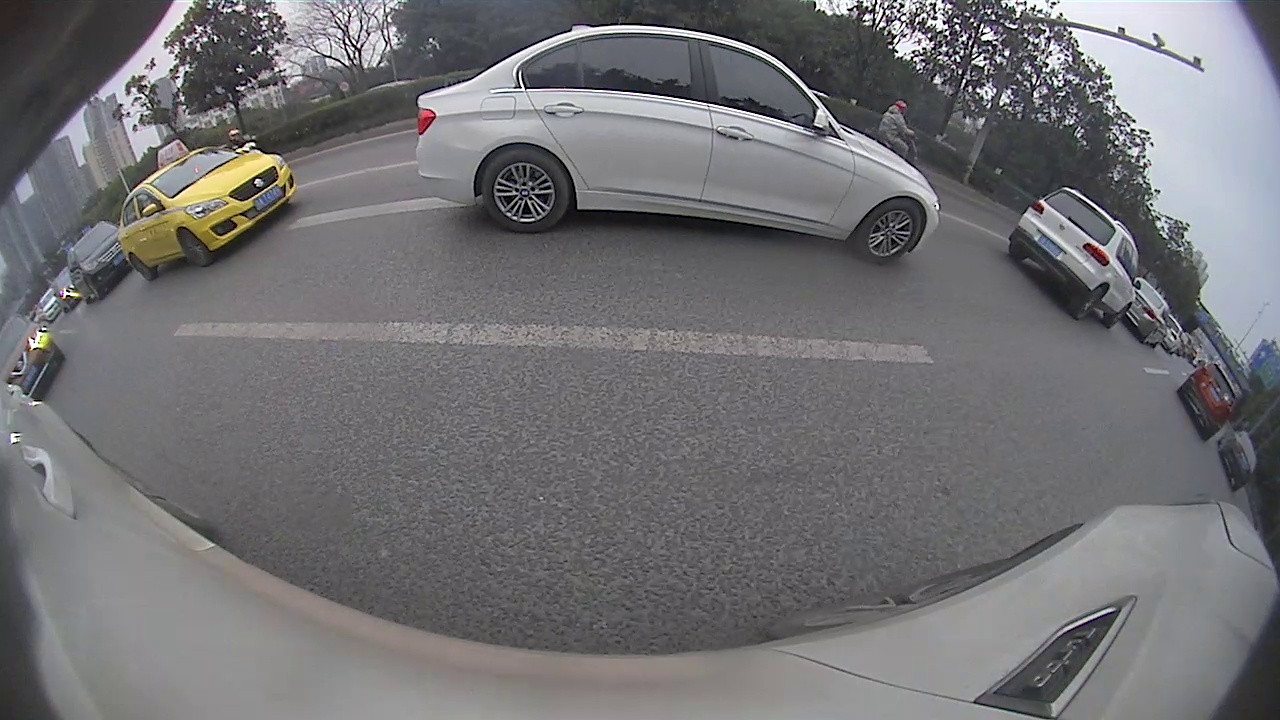car: (415, 26, 939, 264), (118, 139, 295, 279), (1008, 185, 1138, 327), (1, 314, 63, 402), (65, 223, 130, 305), (1179, 362, 1237, 441), (1117, 277, 1174, 348), (1217, 431, 1257, 491)
front: (857, 196, 923, 265), (179, 228, 212, 268)
rear: (481, 147, 570, 235), (1069, 287, 1107, 323), (131, 252, 159, 282)
